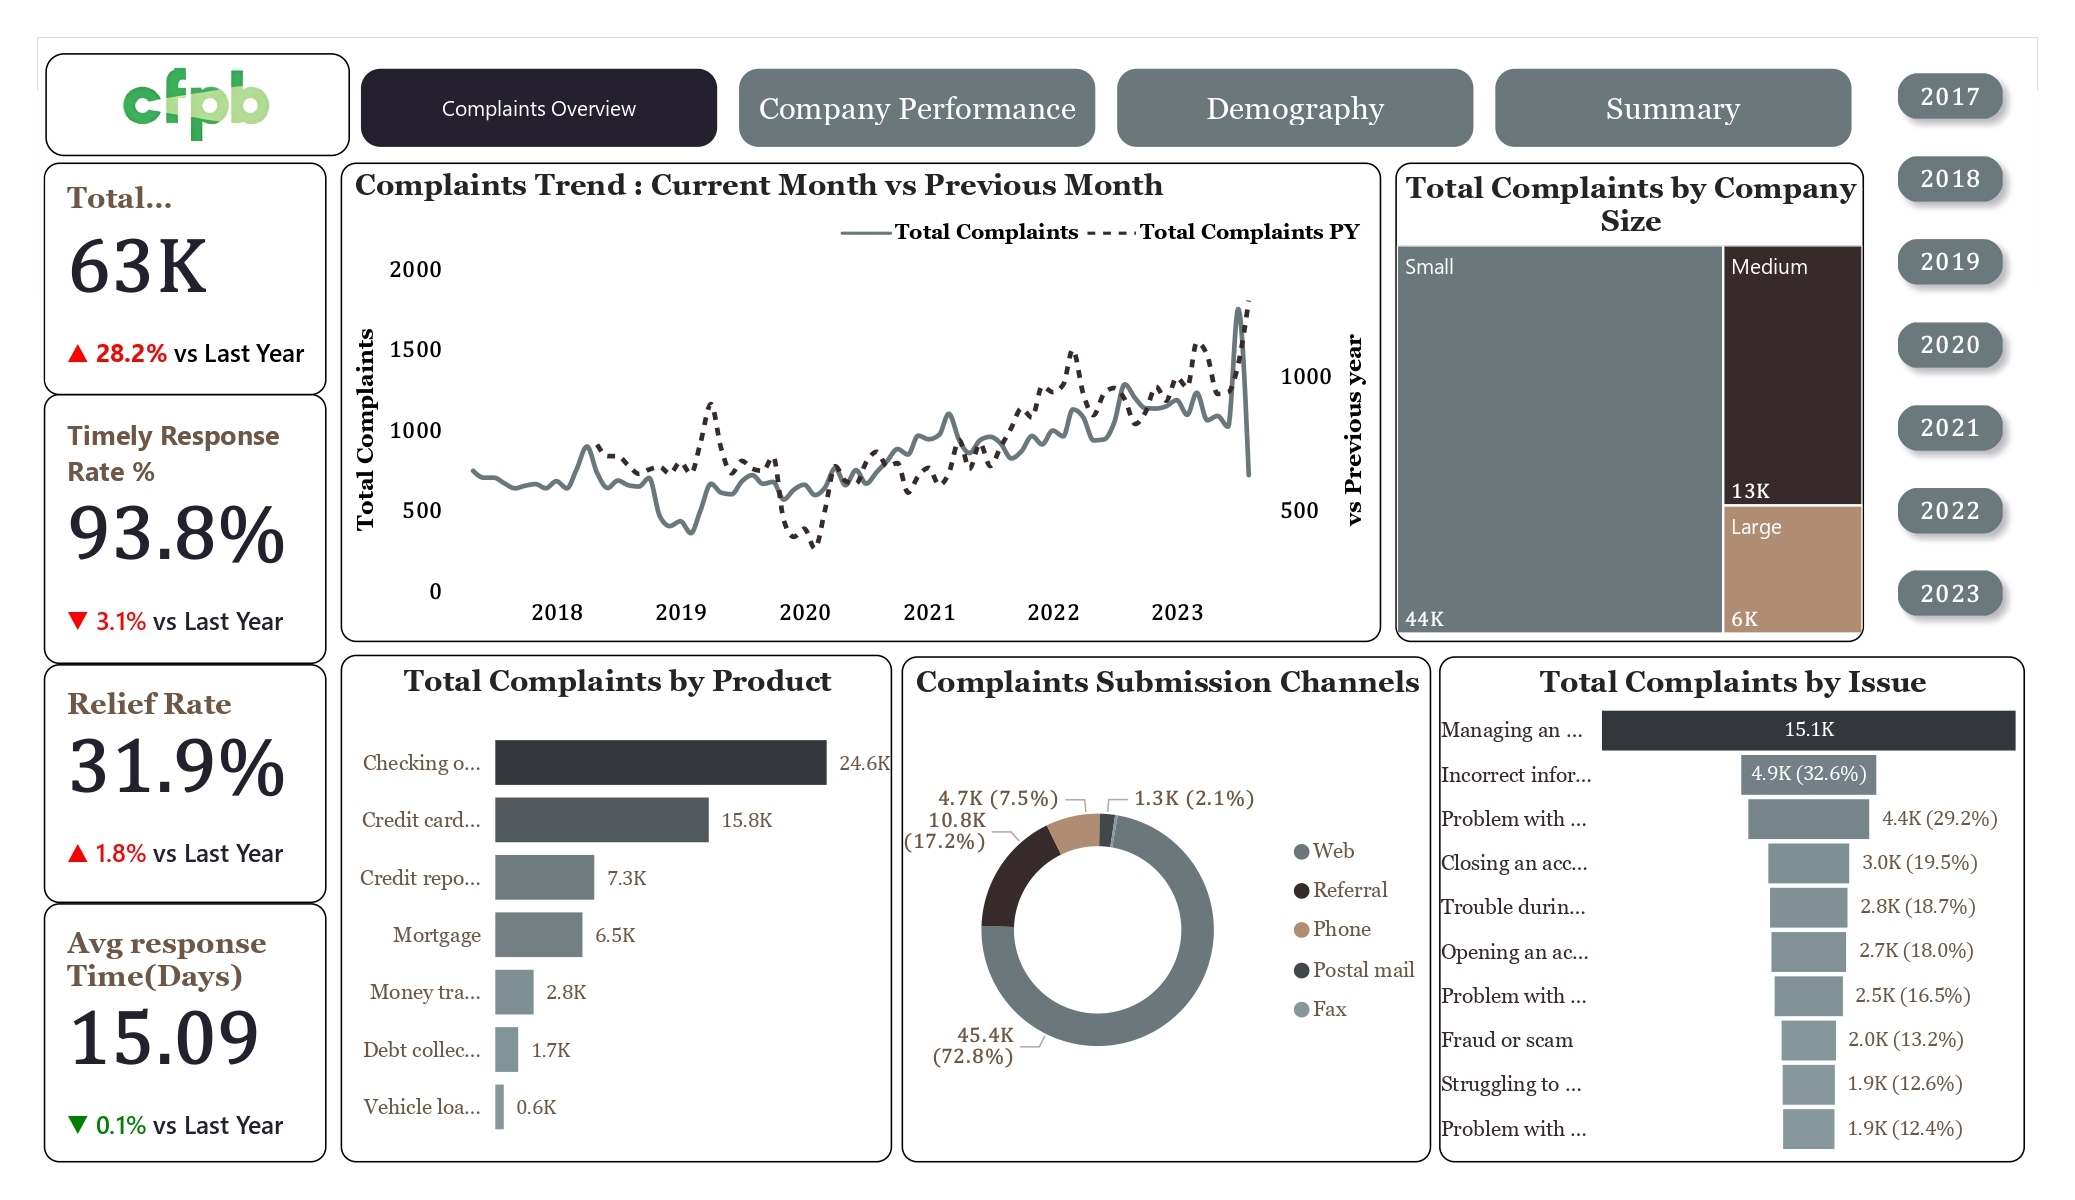

What the dashboard file says about the page in this screenshot:
{"tool":"powerbi","page":{"name":"Complaints Overview","canvas":[1280,720],"ordinal":0},"visuals":[{"type":"cardVisual","fields":{"Data":["Complaints (Fact).Timely response rate"]},"box":[4.4,554.4,180.4,165.6],"z":0},{"type":"cardVisual","fields":{"Data":["Complaints (Fact).Timely Response Rate %"]},"box":[4.4,227.7,180.4,173],"z":1000},{"type":"cardVisual","fields":{"Data":["Complaints (Fact).Relief Rate"]},"box":[4.4,400.6,180.4,153.8],"z":2000},{"type":"advancedSlicerVisual","fields":{"Values":["DateTable.Year"]},"box":[1179.5,10.5,91.5,375.1],"z":3000},{"type":"cardVisual","fields":{"Data":["Complaints (Fact).Total Complaints"]},"box":[4.4,79.8,180.4,149.3],"z":4000},{"type":"lineChart","title":"Complaints Trend : Current Month vs Previous Month","fields":{"Y":["Complaints (Fact).Total Complaints"],"Y2":["Complaints (Fact).Total Complaints PY"],"Category":["DateTable.Year-Month"]},"box":[193.7,79.8,666.8,307],"z":5000},{"type":"funnel","fields":{"Category":["Complaints (Fact).Issue"],"Y":["Complaints (Fact).Total Complaints"]},"box":[897,396,375,324],"z":6000},{"type":"donutChart","title":"Complaints Submission Channels ","fields":{"Category":["Complaints (Fact).Submitted via"],"Y":["Complaints (Fact).Total Complaints"]},"box":[552.9,396.2,339,323.8],"z":7000},{"type":"image","box":[5,10,195.3,65.9],"z":8000},{"type":"pageNavigator","box":[207.2,11,957.8,65.9],"z":9000},{"type":"clusteredBarChart","fields":{"Category":["Complaints (Fact).Product"],"Y":["Complaints (Fact).Total Complaints"]},"box":[193.7,394.7,353.3,325.2],"z":10000},{"type":"treemap","title":"Total Complaints by Company Size","fields":{"Values":["Complaints (Fact).Total Complaints"],"Group":["Company.Company_Size_Tier"]},"box":[869.3,79.8,300.1,307],"z":11000}]}

Visuals, with their boxes in screenshot pixels (x1, y1, x2, y2):
cardVisual - Complaints (Fact).Timely response rate: box=[44, 904, 326, 1162]
cardVisual - Complaints (Fact).Timely Response Rate %: box=[44, 393, 326, 664]
cardVisual - Complaints (Fact).Relief Rate: box=[44, 663, 326, 904]
advancedSlicerVisual - DateTable.Year: box=[1880, 54, 2023, 640]
cardVisual - Complaints (Fact).Total Complaints: box=[44, 162, 326, 395]
"Complaints Trend : Current Month vs Previous Month" lineChart: box=[340, 162, 1382, 642]
funnel - Complaints (Fact).Issue x Complaints (Fact).Total Complaints: box=[1439, 656, 2025, 1162]
"Complaints Submission Channels " donutChart: box=[901, 657, 1431, 1162]
image: box=[45, 53, 350, 156]
pageNavigator: box=[361, 55, 1858, 158]
clusteredBarChart - Complaints (Fact).Product x Complaints (Fact).Total Complaints: box=[340, 654, 892, 1162]
"Total Complaints by Company Size" treemap: box=[1396, 162, 1865, 642]
